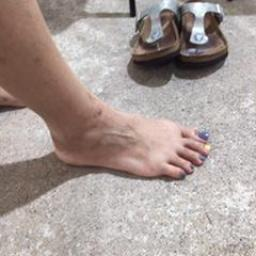Lateral View -Right Foot-: (24, 95, 216, 199)
